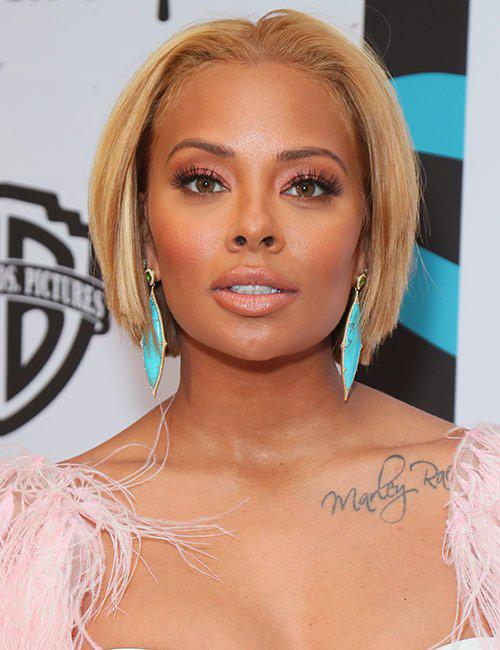Sober: (152, 66, 366, 333)
